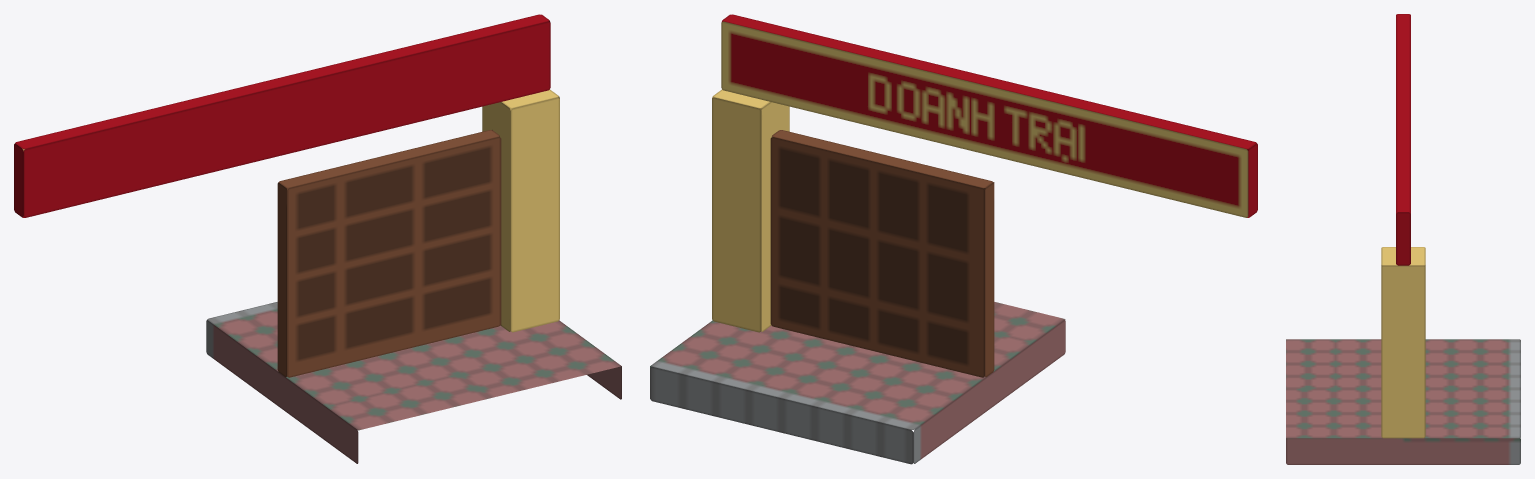
File: Base Door.fbx
3 renders of one model, left to right at view 1: azimuth 30°, elevation 25°; view 2: azimuth 150°, elevation 25°; view 3: azimuth 270°, elevation 25°, orthographic. The views are drawn at different scales.
Parts seen in each view (by area): view 1: cuboid_2, cuboid_1, SideRoad, cuboid; view 2: cuboid_2, cuboid_1, SideRoad, cuboid; view 3: SideRoad, cuboid, cuboid_1.
Part boxes in pixels (x1,y1,x2,y2): cuboid_2: [277, 130, 501, 377]; cuboid_1: [14, 14, 550, 217]; SideRoad: [206, 302, 621, 463]; cuboid: [482, 89, 559, 332]; cuboid_2: [770, 130, 994, 377]; cuboid_1: [721, 14, 1257, 217]; SideRoad: [650, 302, 1065, 464]; cuboid: [712, 89, 789, 332]; SideRoad: [1286, 339, 1520, 464]; cuboid: [1381, 247, 1425, 438]; cuboid_1: [1396, 14, 1410, 265].
Size of the model in its own units: 400 by 238 by 200.
Materials: 2 (2 with a texture image).
